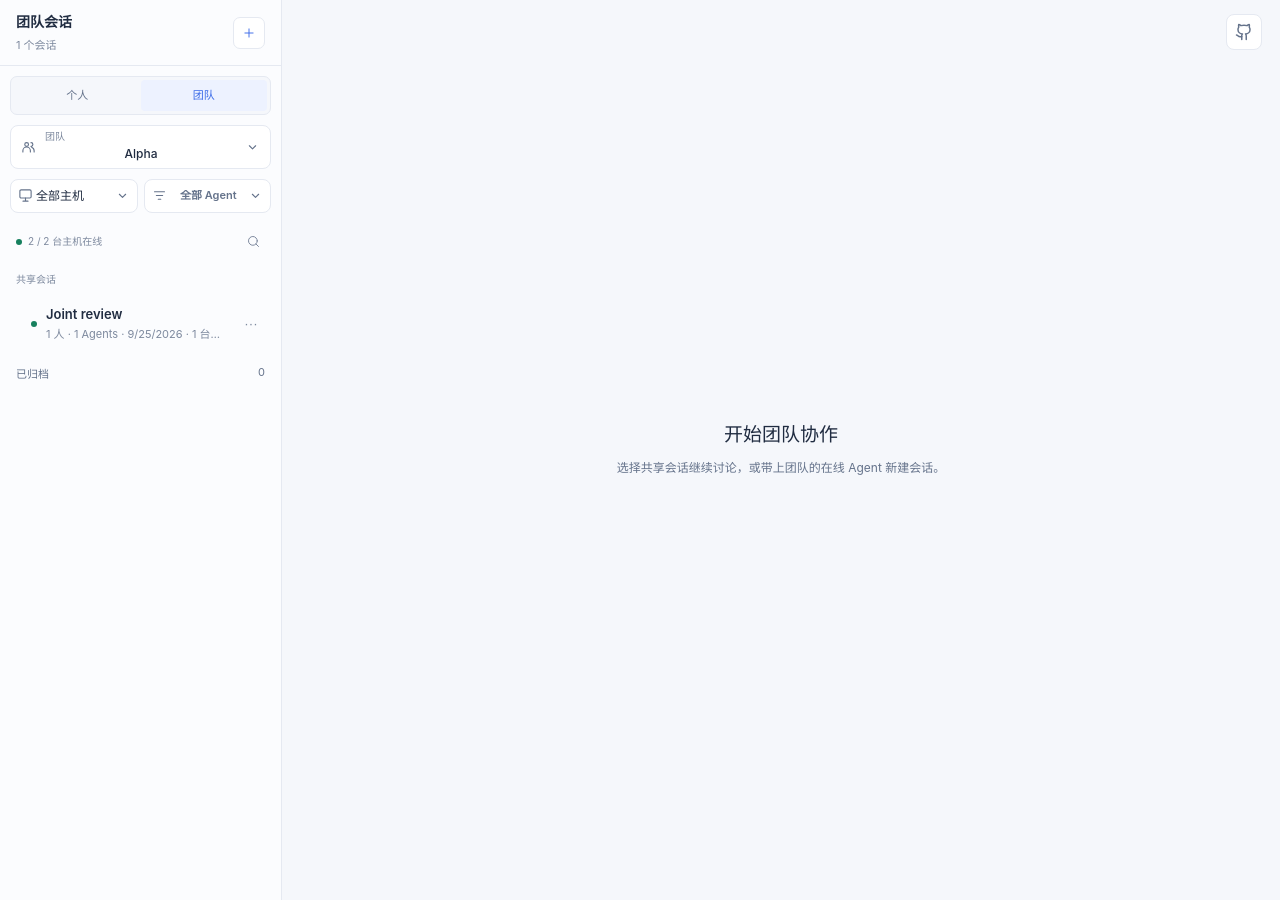
Scenario: team session list › keeps copy available to readers without exposing creator write actions
Click the button with class "row-more": (251, 324) [239,312,263,336]
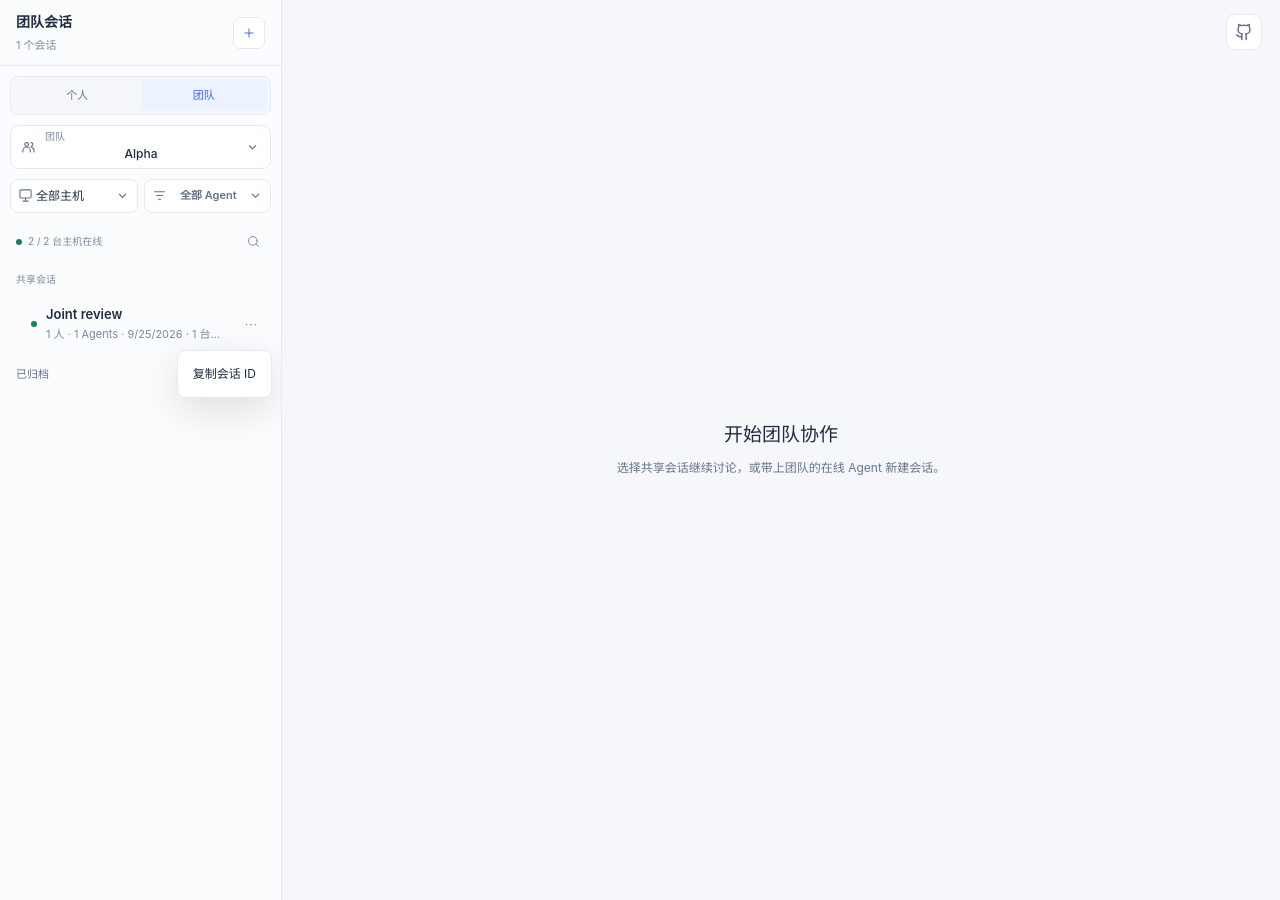
Result: the menu reads "复制会话 ID" at [183,356,266,392]
